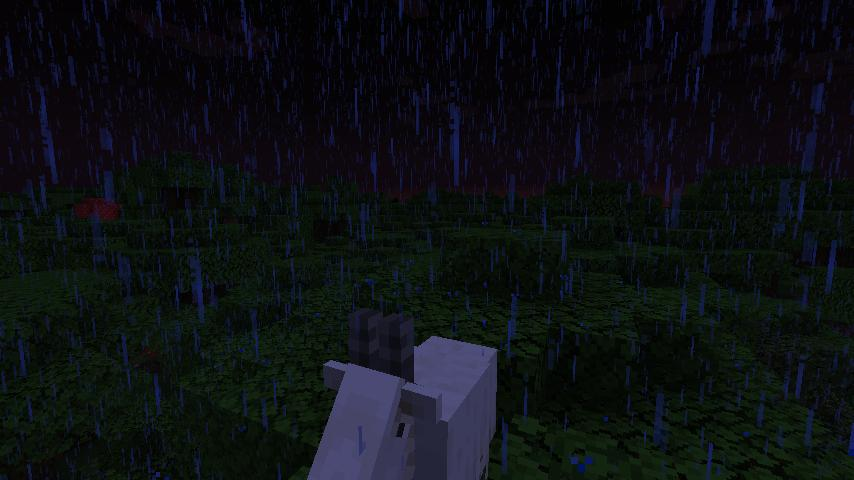goat: (305, 303, 500, 480)
